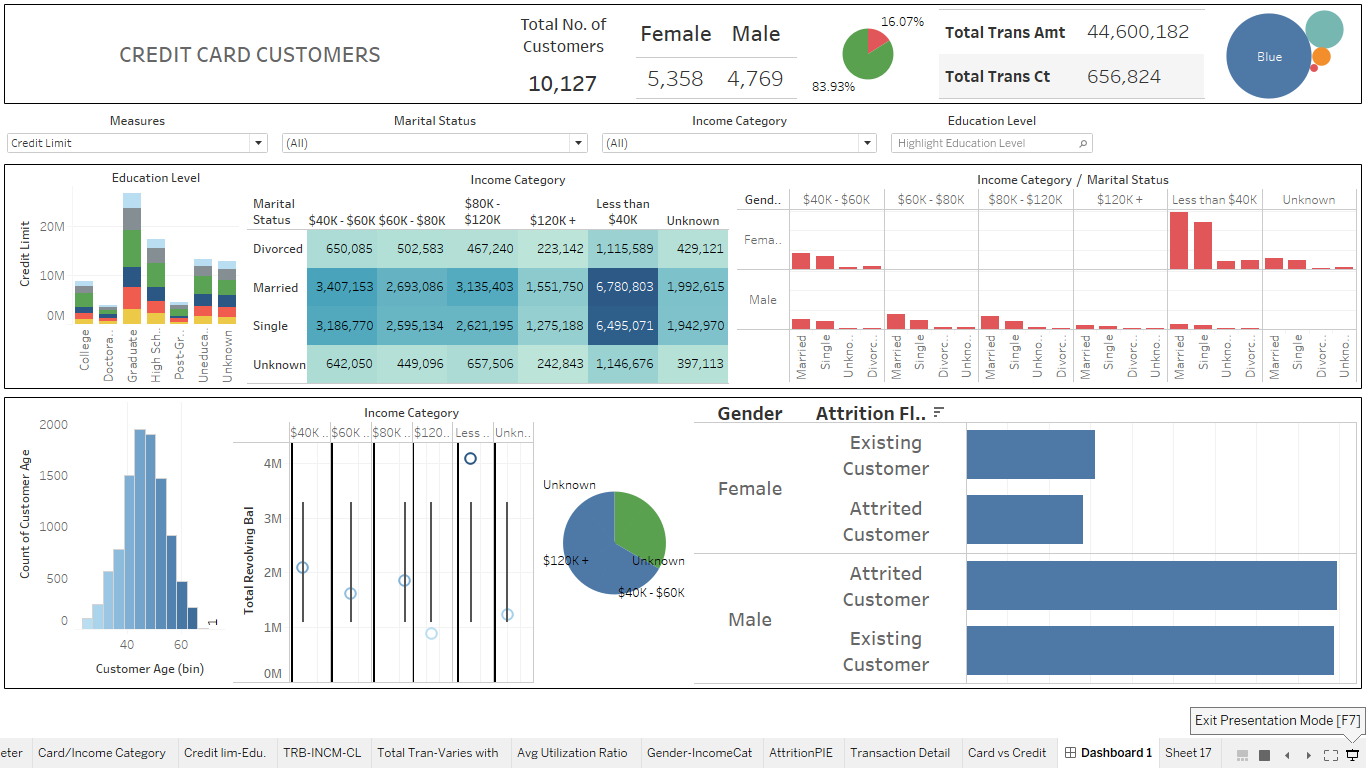

This screenshot's page, from the dashboard's own definition file:
{"tool":"tableau","page":{"name":"Dashboard 1","canvas":[1000,1000],"units":"permille","ordinal":0},"visuals":[{"type":"worksheet","box":[0,0,1000,1000]},{"type":"worksheet","param":"horz","box":[0,0,1000,233.3]},{"type":"worksheet","box":[6.3,10.8,40.3,211.7]},{"type":"worksheet","title":"Customer Count","mark":"Automatic","box":[46.6,10.8,172.6,211.7]},{"type":"worksheet","title":"Gender","mark":"Automatic","cols":["Gender"],"box":[219.2,10.8,207.2,211.7]},{"type":"worksheet","title":"AttritionPIE","mark":"Pie","box":[426.3,10.8,168.8,211.7]},{"type":"worksheet","title":"Transaction Detail","mark":"Automatic","box":[595.1,10.8,207.2,211.7]},{"type":"worksheet","title":"Card vs Credit","mark":"Circle","box":[802.3,10.8,191.4,211.7]},{"type":"worksheet","param":"horz","box":[10.1,17.3,914.1,965.4]},{"type":"worksheet","param":"horz","box":[924.2,17.3,65.8,965.4]},{"type":"worksheet","param":"horz","box":[0,233.3,1000,69.1]},{"type":"worksheet","param":"[Parameters].[Parameter 1]","box":[0,233.3,250,69.1]},{"type":"worksheet","title":"Avg Utilization Ratio","mark":"Automatic","rows":["Gender","Avg_Utilization_Ratio"],"cols":["Income_Category","Marital_Status"],"param":"[federated.1324pgj10aw8ps1gqrdrb0pan6g5].[none:Marital_Status:nk]","box":[250,233.3,250,69.1]},{"type":"worksheet","title":"Gender-IncomeCat","mark":"Pie","param":"[federated.1324pgj10aw8ps1gqrdrb0pan6g5].[none:Income_Category:nk]","box":[500,233.3,250,69.1]},{"type":"worksheet","title":"Credit lim-Edu.","mark":"Automatic","rows":["Credit_Limit"],"cols":["Education_Level"],"param":"[federated.1324pgj10aw8ps1gqrdrb0pan6g5].[none:Education_Level:nk]","box":[750,233.3,250,69.1]},{"type":"worksheet","param":"horz","box":[0,302.4,1000,437.5]},{"type":"worksheet","title":"Credit lim-Edu.","mark":"Automatic","rows":["Credit_Limit"],"cols":["Education_Level"],"box":[6.3,313.2,299.8,415.9]},{"type":"worksheet","title":"Total Tran-Varies with","mark":"Square","rows":["Marital_Status"],"cols":["Income_Category"],"box":[306.1,313.2,617.1,415.9]},{"type":"worksheet","title":"Avg Utilization Ratio","mark":"Automatic","rows":["Gender","Avg_Utilization_Ratio"],"cols":["Income_Category","Marital_Status"],"box":[923.2,313.2,70.5,415.9]}]}

Visuals, with their boxes on the dashboard's canvas, which has no fixed pixel size, in thousandths of its width and height (x1, y1, x2, y2). These are canvas units, not pixel positions in the 1366x768 screenshot, which may show the page scaled, cropped or inside an application window:
worksheet: [0,0,1000,1000]
worksheet: [0,0,1000,233]
worksheet: [6,11,47,222]
"Customer Count" worksheet: [47,11,219,222]
"Gender" worksheet: [219,11,426,222]
"AttritionPIE" worksheet (Pie marks): [426,11,595,222]
"Transaction Detail" worksheet: [595,11,802,222]
"Card vs Credit" worksheet (Circle marks): [802,11,994,222]
worksheet: [10,17,924,983]
worksheet: [924,17,990,983]
worksheet: [0,233,1000,302]
worksheet: [0,233,250,302]
"Avg Utilization Ratio" worksheet: [250,233,500,302]
"Gender-IncomeCat" worksheet (Pie marks): [500,233,750,302]
"Credit lim-Edu." worksheet: [750,233,1000,302]
worksheet: [0,302,1000,740]
"Credit lim-Edu." worksheet: [6,313,306,729]
"Total Tran-Varies with" worksheet (Square marks): [306,313,923,729]
"Avg Utilization Ratio" worksheet: [923,313,994,729]
